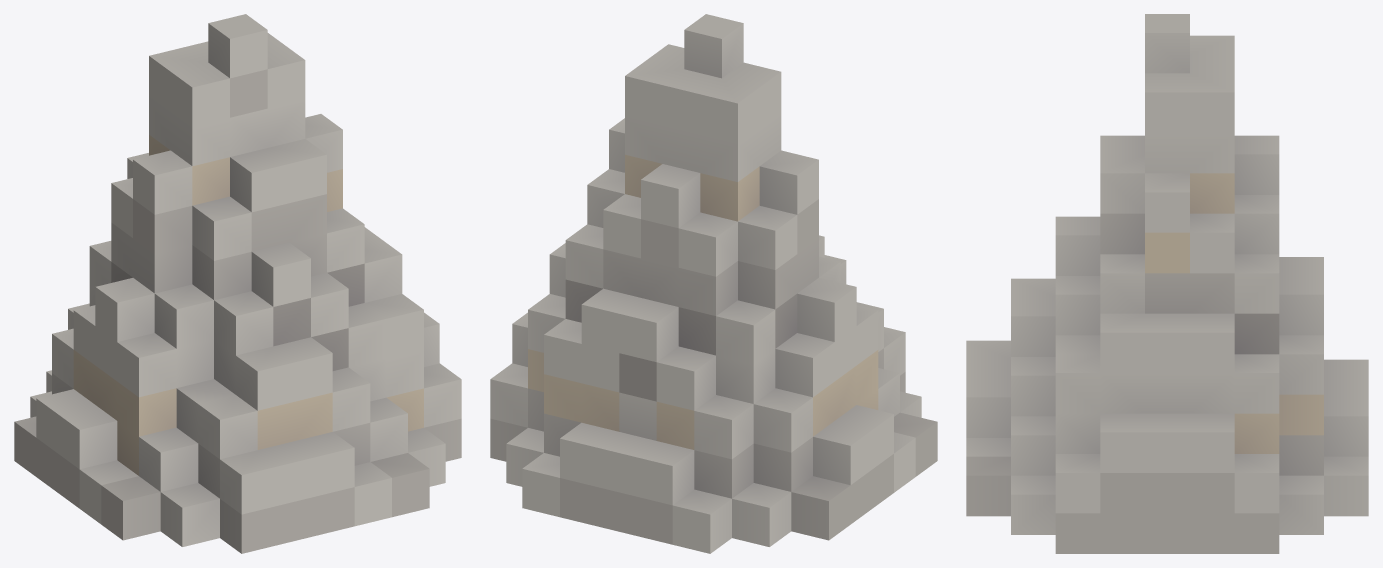
File: decor_peak_b.glb
3 renders of one model, left to right at view 1: azimuth 30°, elevation 25°; view 2: azimuth 150°, elevation 25°; view 3: azimuth 270°, elevation 25°, orthographic. The views are drawn at different scales.
Visible parts, largest first — view 1: decor_peak_b; view 2: decor_peak_b; view 3: decor_peak_b.
Part boxes in pixels (x1,y1,x2,y2): decor_peak_b: (14,14,461,553); decor_peak_b: (490,14,937,553); decor_peak_b: (966,14,1368,553).
Size of the model in its own units: 1.12 by 1.38 by 1.12.
